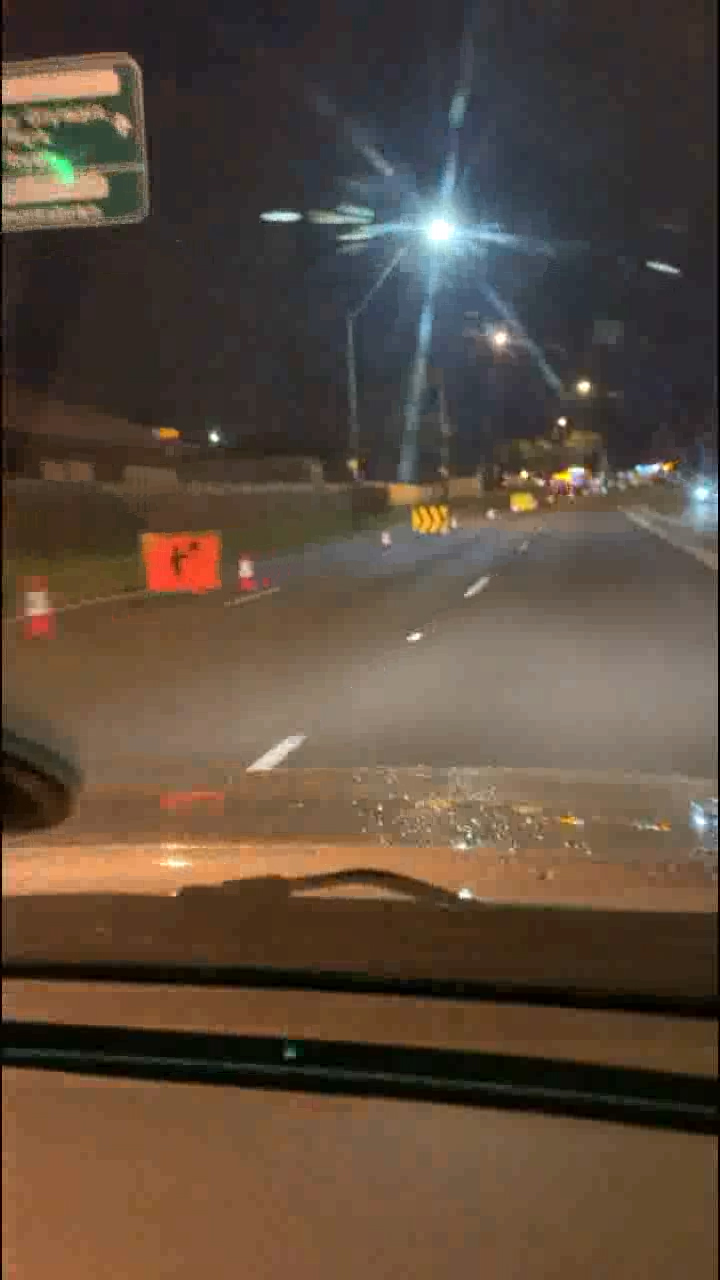road cone: (18, 582, 60, 642), (233, 557, 260, 600)
road works sign board: (139, 532, 224, 590), (408, 509, 458, 536)
